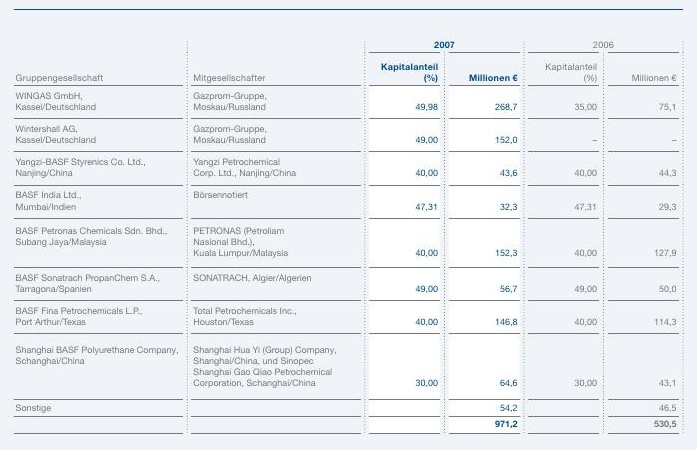table: (0, 0, 697, 450)
